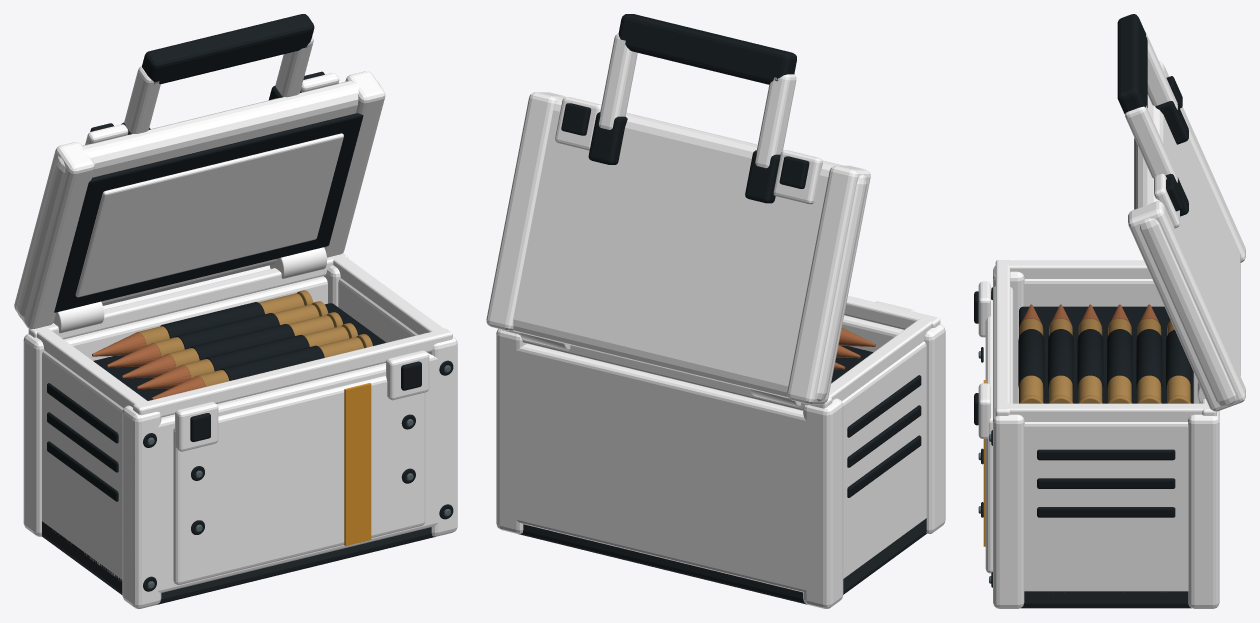
File: autocannon_magazine.glb
3 renders of one model, left to right at view 1: azimuth 30°, elevation 25°; view 2: azimuth 150°, elevation 25°; view 3: azimuth 270°, elevation 25°, orthographic. The views are drawn at different scales.
Parts seen in each view (by area): view 1: AmmoFrontPanel, LidInnerPanel, AmmoCaseSide.001, AmmoOpenLid, LidInnerSeal, AmmoCaseWall, AmmoCornerReinforcement.002, LidTitaniumRail.001, AmmoCarryHandleGrip, AmmoCaseRim, AmmoSideRim.001, AmmoCaseRim.001 (+27 smaller); view 2: AmmoOpenLid, AmmoCaseWall.001, LidTitaniumRail.001, AmmoCaseSide.001, AmmoCornerReinforcement.003, AmmoCarryHandleGrip, AmmoCaseFloor, AmmoCarryHandleUpright.001, AmmoCornerReinforcement.002, AmmoCarryHandleFoot.001, AmmoSideRim.001, LidLatchPlate.001 (+8 smaller); view 3: AmmoCaseSide.001, AmmoOpenLid, AmmoCornerReinforcement.002, AmmoCornerReinforcement.003, LidTitaniumRail.001, AmmoSideRim.001, AmmoBeltBed, AmmoCaseFloor, AmmoCarryHandleUpright.001, AmmoCarryHandleGrip, AmmoCaseRim, AmmoFrontPanel (+20 smaller).
Part boxes in pixels (<box>): AmmoFrontPanel: <box>173,375,425,584</box>; LidInnerPanel: <box>75,133,343,297</box>; AmmoCaseSide.001: <box>42,278,418,581</box>; AmmoOpenLid: <box>16,80,380,320</box>; LidInnerSeal: <box>54,113,363,312</box>; AmmoCaseWall: <box>145,353,450,592</box>; AmmoCornerReinforcement.002: <box>122,333,457,608</box>; LidTitaniumRail.001: <box>14,71,385,329</box>; AmmoCarryHandleGrip: <box>142,14,314,84</box>; AmmoCaseRim: <box>133,328,452,417</box>; AmmoSideRim.001: <box>35,256,443,408</box>; AmmoCaseRim.001: <box>28,253,347,339</box>; AmmoOpenLid: <box>513,93,867,401</box>; AmmoCaseWall.001: <box>503,343,819,593</box>; LidTitaniumRail.001: <box>486,92,870,404</box>; AmmoCaseSide.001: <box>842,341,926,578</box>; AmmoCornerReinforcement.003: <box>496,329,843,608</box>; AmmoCarryHandleGrip: <box>618,14,796,84</box>; AmmoCaseFloor: <box>518,518,926,604</box>; AmmoCarryHandleUpright.001: <box>598,33,796,168</box>; AmmoCornerReinforcement.002: <box>924,324,945,533</box>; AmmoCarryHandleFoot.001: <box>588,112,780,203</box>; AmmoSideRim.001: <box>828,318,931,400</box>; LidLatchPlate.001: <box>555,97,822,204</box>; AmmoCaseSide.001: <box>1024,279,1188,591</box>; AmmoOpenLid: <box>1135,95,1240,405</box>; AmmoCornerReinforcement.002: <box>993,266,1024,608</box>; AmmoCornerReinforcement.003: <box>1188,372,1219,608</box>; LidTitaniumRail.001: <box>1128,61,1245,411</box>; AmmoSideRim.001: <box>1003,260,1207,421</box>; AmmoBeltBed: <box>1019,306,1193,403</box>; AmmoCaseFloor: <box>1021,591,1191,608</box>; AmmoCarryHandleUpright.001: <box>1124,31,1177,182</box>; AmmoCarryHandleGrip: <box>1117,14,1147,113</box>; AmmoCaseRim: <box>995,260,1010,416</box>; AmmoFrontPanel: <box>985,299,992,573</box>.
Bounding box in the file's own units: 1.63 × 2.35 × 1.2.
